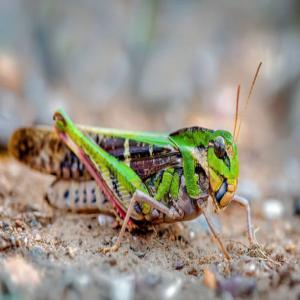locust: (11, 59, 259, 253)
